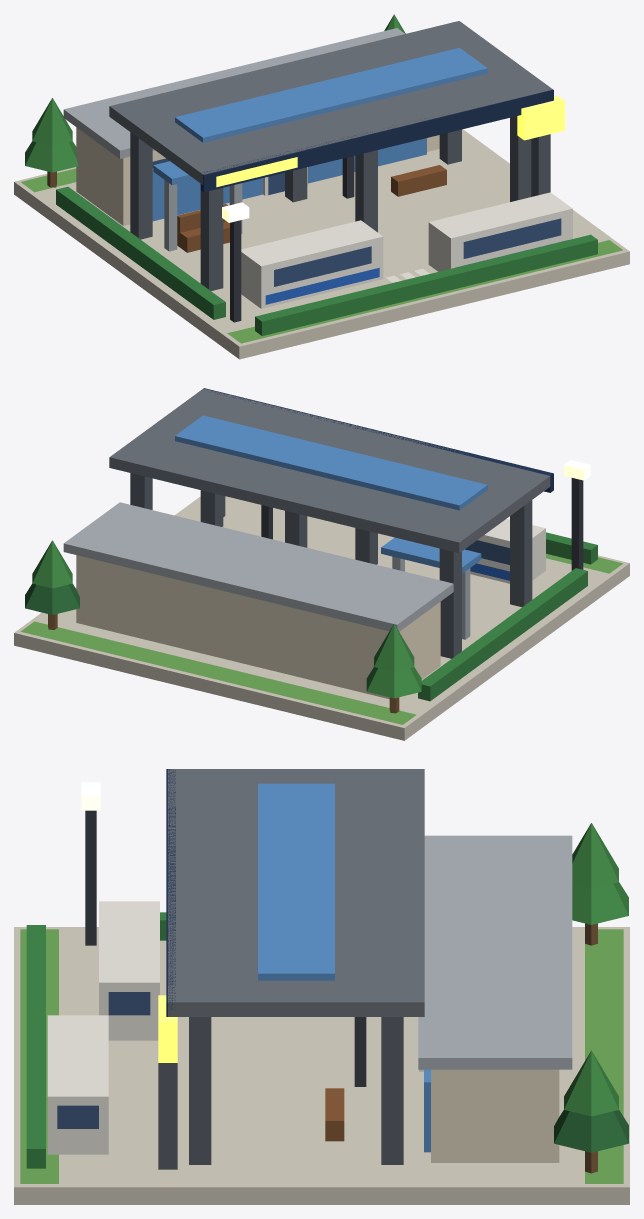
The picture shows the model from 3 angles, top to bottom: view 1: azimuth 30°, elevation 25°; view 2: azimuth 150°, elevation 25°; view 3: azimuth 270°, elevation 25°; orthographic projection. The views are drawn at different scales.
Visible parts, largest first — view 1: b31; view 2: b31; view 3: b31.
Part boxes in pixels (x1=…): b31: x1=14, y1=14, x2=629, y2=359; b31: x1=14, y1=388, x2=629, y2=740; b31: x1=14, y1=769, x2=629, y2=1204.
Size of the model in its own units: 0.975 by 0.337 by 0.96.
